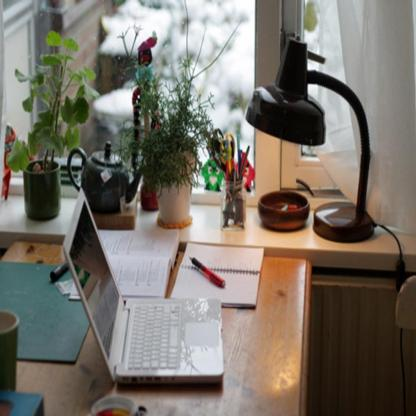board: (65, 189, 225, 385)
